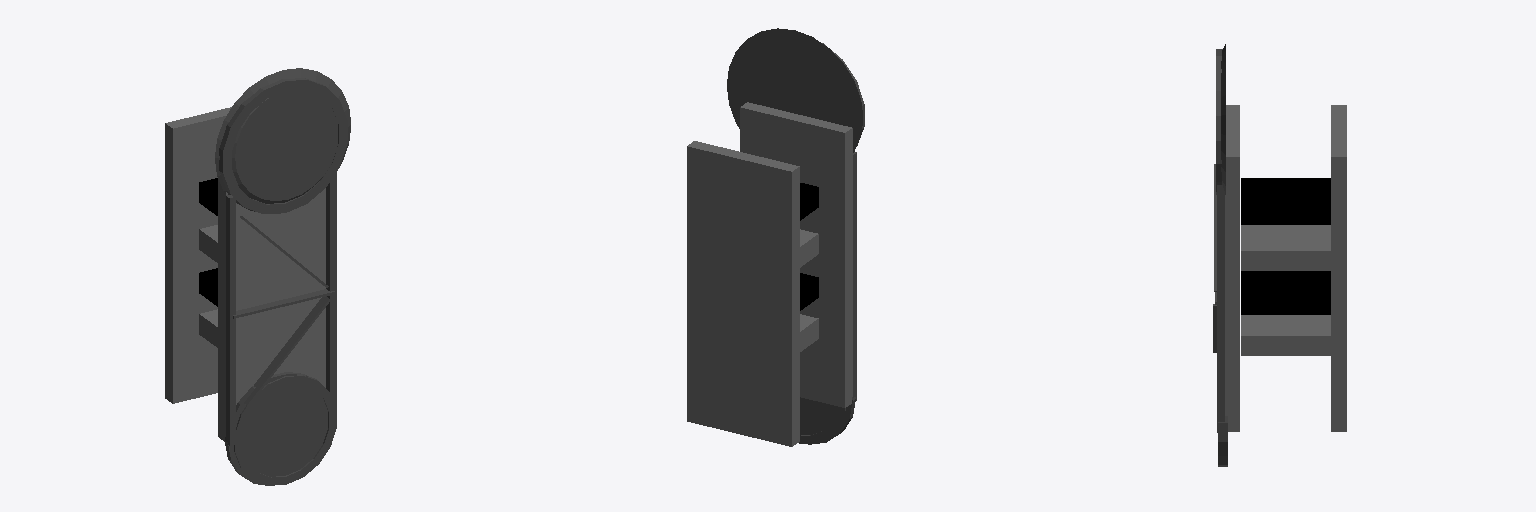
Rendered from upperleg.obj.
The picture shows the model from 3 angles: view 1: azimuth 30°, elevation 25°; view 2: azimuth 150°, elevation 25°; view 3: azimuth 270°, elevation 25°; orthographic projection.
Visible parts, largest first — view 1: Box001, Box002, Cone001, Cylinder001, Tube001, Box007, Box008, Tube002, Box011, Box010, Box003, Box005 (+2 smaller); view 2: Box002, Box001, Cone001, Cylinder001, Box007, Box006, Box003, Box004, Box005; view 3: Box002, Box001, Box006, Box004, Box003, Box005, Box008, Tube001, Cone001.
Part boxes in pixels (x1,y1,x2,y2): Box001: (218,179,325,441); Box002: (165,107,231,403); Cone001: (215,68,350,211); Cylinder001: (225,372,327,485); Tube001: (219,78,347,213); Box007: (226,195,235,445); Box008: (326,172,336,420); Tube002: (234,373,336,485); Box011: (244,296,330,406); Box010: (233,289,334,318); Box003: (199,268,217,306); Box005: (199,309,217,347); Box002: (687,141,799,446); Box001: (740,102,852,407); Cone001: (727,28,862,152); Cylinder001: (800,397,855,444); Box007: (853,152,856,400); Box006: (800,183,818,220); Box003: (800,273,818,310); Box004: (800,229,818,267); Box005: (800,314,818,351); Box002: (1331,105,1346,431); Box001: (1225,105,1239,431); Box006: (1241,178,1330,224); Box004: (1241,225,1330,270); Box003: (1241,271,1330,314); Box005: (1241,315,1330,355); Box008: (1217,185,1224,432); Tube001: (1216,49,1222,194); Cone001: (1221,44,1225,194).
Bounding box in the file's own units: 1.04 × 2.99 × 0.8763.